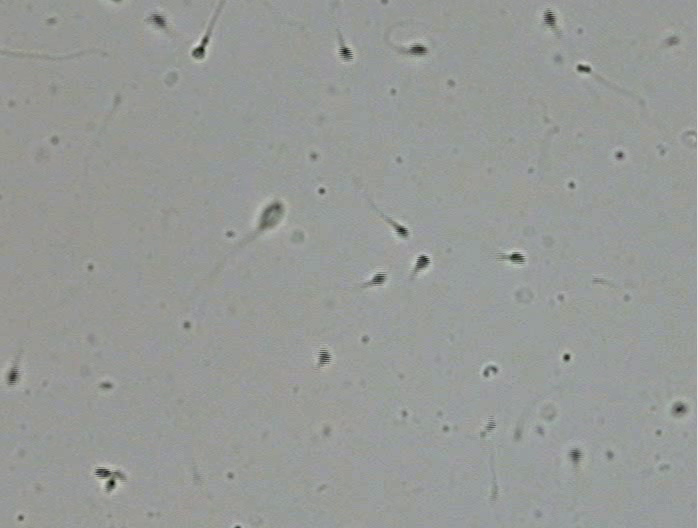S: (259, 200, 285, 229), (338, 45, 354, 62), (150, 13, 166, 29), (415, 254, 431, 270), (317, 348, 332, 365), (6, 367, 20, 385), (542, 9, 556, 27), (94, 467, 112, 479), (409, 44, 427, 56), (372, 272, 387, 286), (394, 224, 409, 238), (568, 447, 581, 463), (510, 252, 526, 264), (192, 45, 205, 59), (673, 402, 686, 416), (576, 63, 592, 73), (105, 479, 115, 490)
